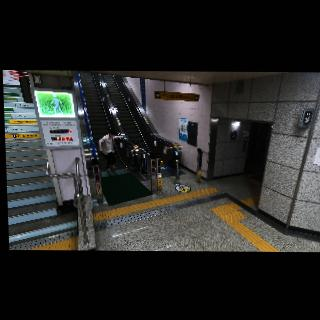normal: (97, 128, 128, 171)
